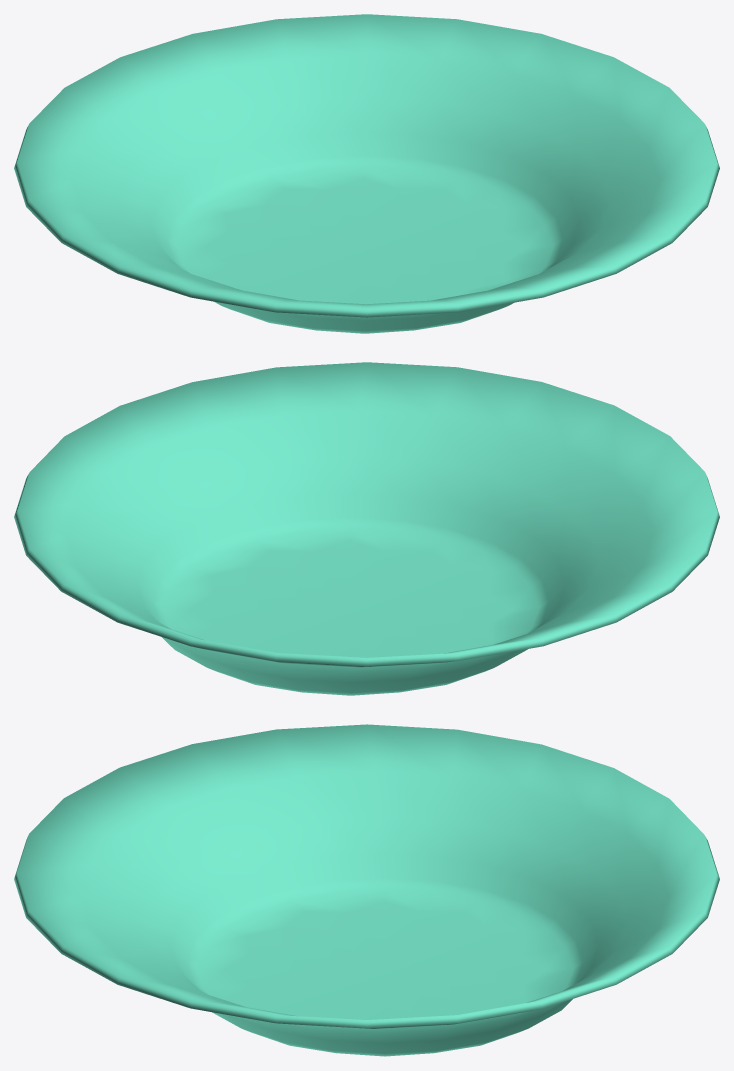
Rendered from plate.fbx.
3 views of the same model, one above another, from view 1: azimuth 30°, elevation 25°; view 2: azimuth 150°, elevation 25°; view 3: azimuth 270°, elevation 25° (orthographic).
Visible parts, largest first — view 1: Circle.002; view 2: Circle.002; view 3: Circle.002.
Boxes of the visible parts, bbox=[...] form: Circle.002: bbox=[14, 14, 719, 333]; Circle.002: bbox=[14, 362, 719, 695]; Circle.002: bbox=[14, 724, 719, 1056].
Size of the model in its own units: 121 by 19.52 by 121.
